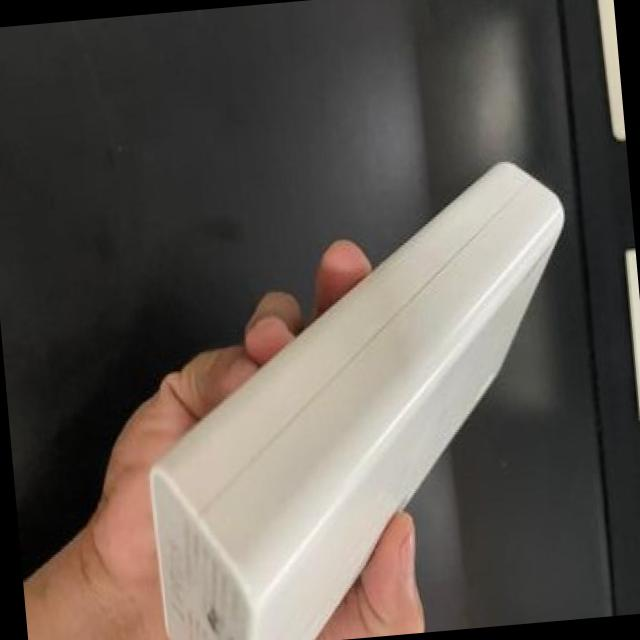power_bank: (87, 78, 610, 640)
